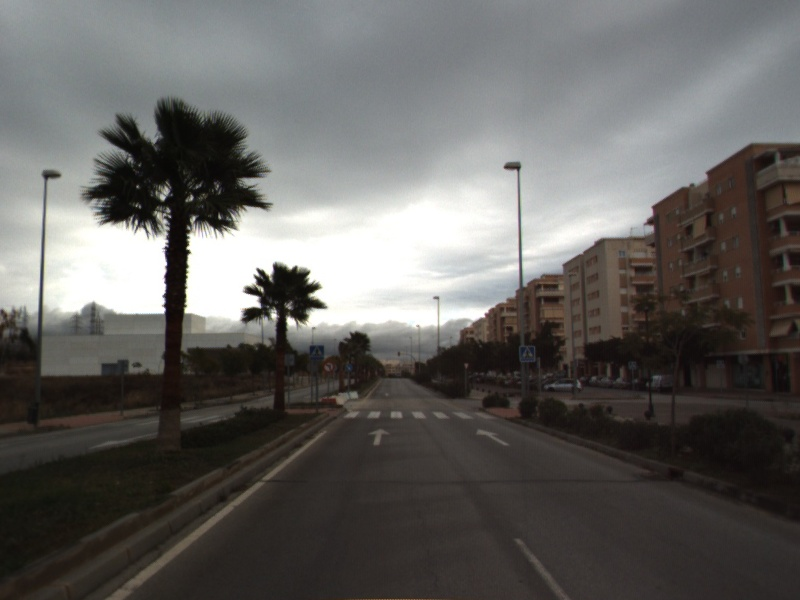STRAIGHT: (474, 427, 512, 448), (366, 426, 393, 448)
